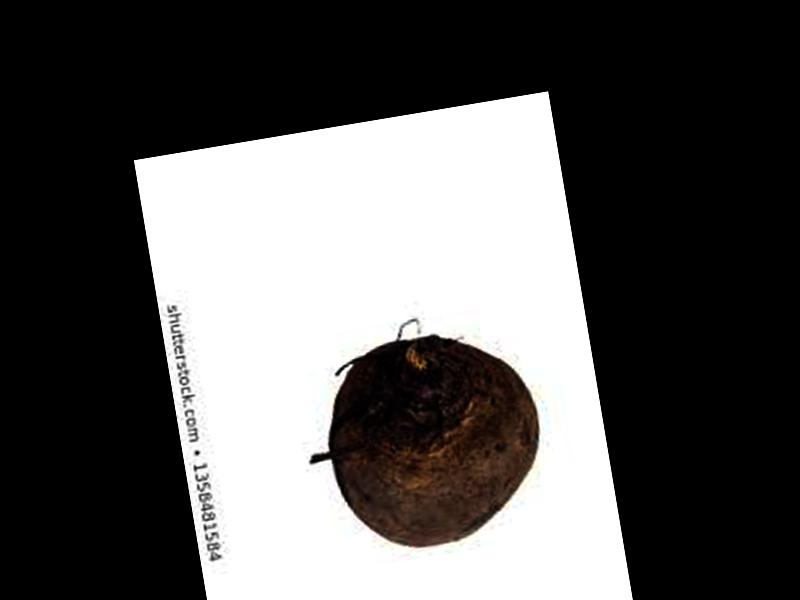Beet: (316, 323, 555, 561)
